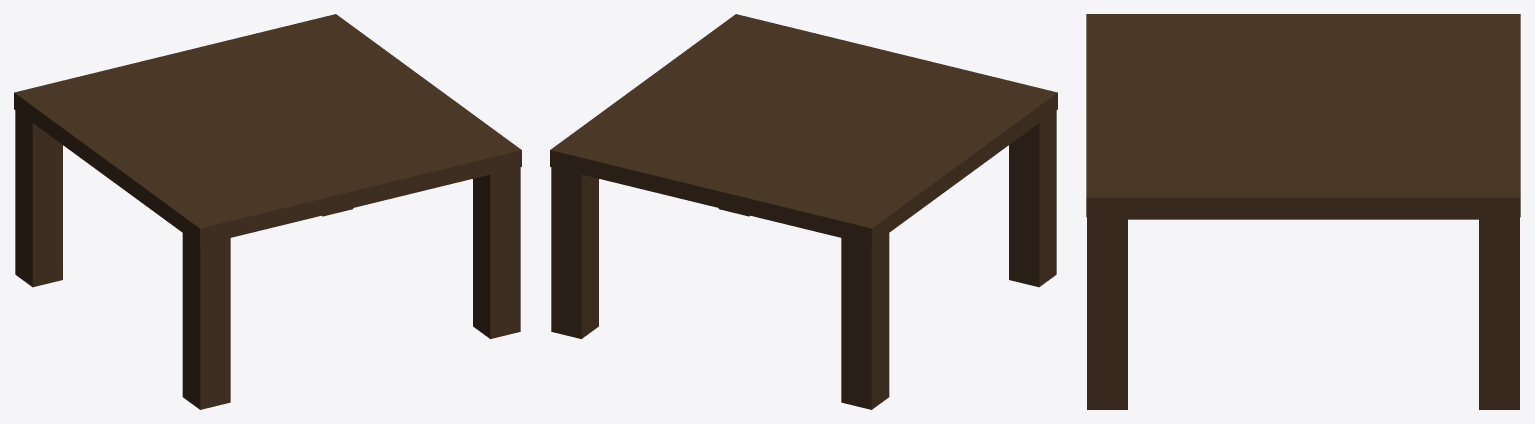
File: Table Small .glb
The picture shows the model from 3 angles, left to right: view 1: azimuth 30°, elevation 25°; view 2: azimuth 150°, elevation 25°; view 3: azimuth 270°, elevation 25°; orthographic projection. The views are drawn at different scales.
Parts seen in each view (by area): view 1: Dinner_Table; view 2: Dinner_Table; view 3: Dinner_Table.
Boxes of the visible parts, left/top/right/bottom form: Dinner_Table: left=14, top=14, right=521, bottom=409; Dinner_Table: left=550, top=14, right=1057, bottom=409; Dinner_Table: left=1086, top=14, right=1520, bottom=409.
Size of the model in its own units: 2.69 by 1.45 by 2.69.
